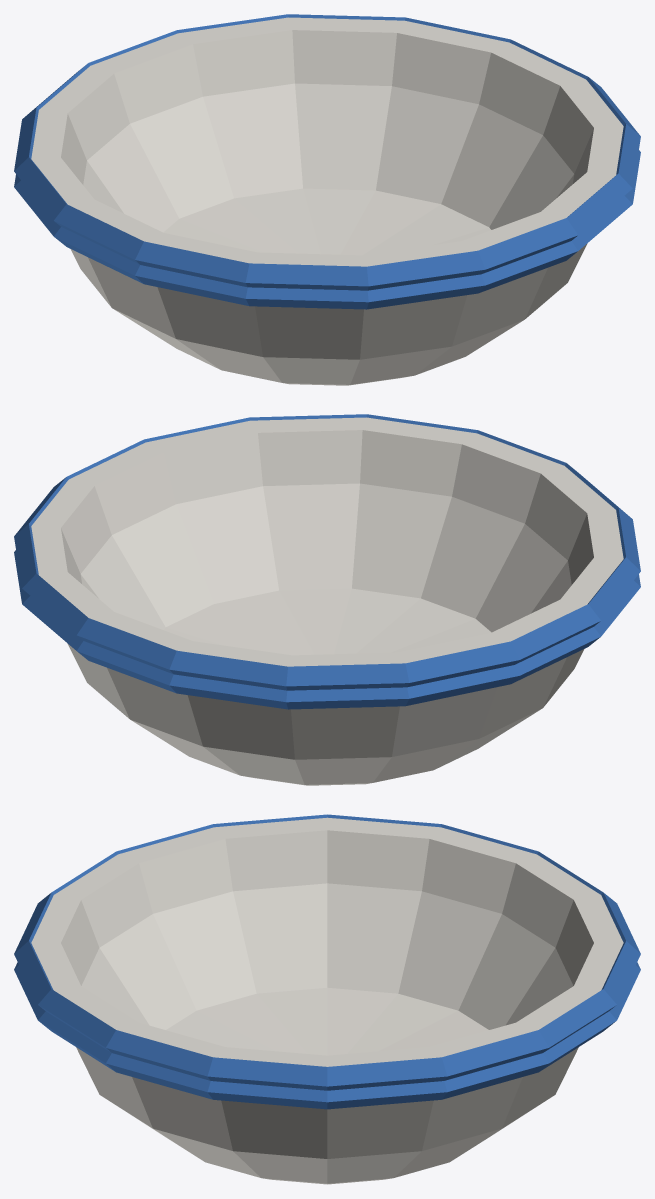
File: bowl.glb
The picture shows the model from 3 angles, top to bottom: view 1: azimuth 30°, elevation 25°; view 2: azimuth 150°, elevation 25°; view 3: azimuth 270°, elevation 25°; orthographic projection.
Parts seen in each view (by area): view 1: bowl; view 2: bowl; view 3: bowl.
Part boxes in pixels (x1,y1,x2,y2): bowl: [14, 14, 640, 385]; bowl: [14, 414, 640, 785]; bowl: [14, 814, 640, 1184].
Bounding box in the file's own units: 0.254 × 0.081 × 0.254.
